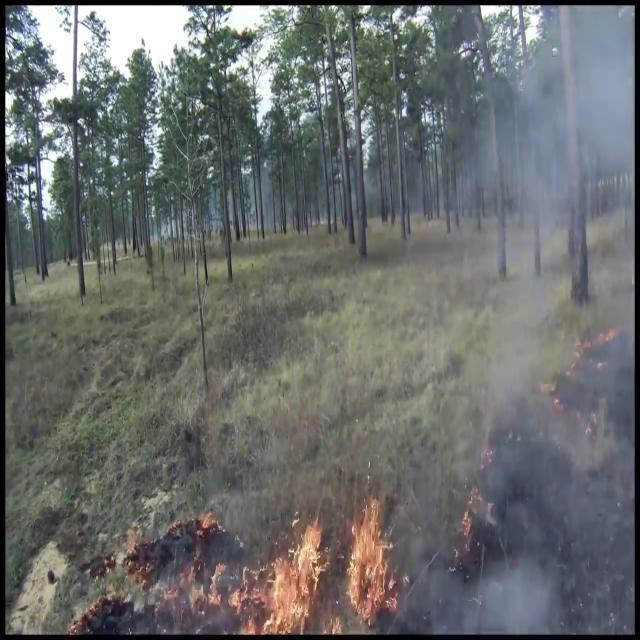Fire: (198, 504, 329, 630), (343, 486, 401, 626)
Smoke: (426, 7, 634, 575)
